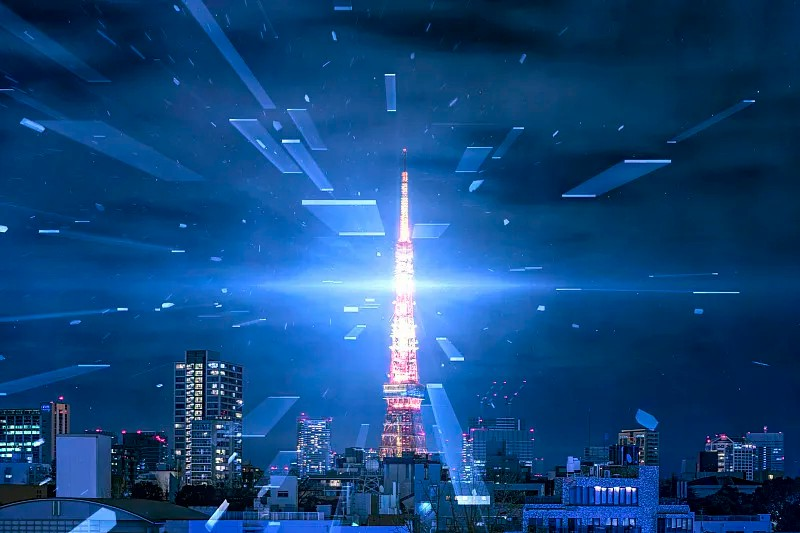Tokyo: (378, 143, 430, 460)
